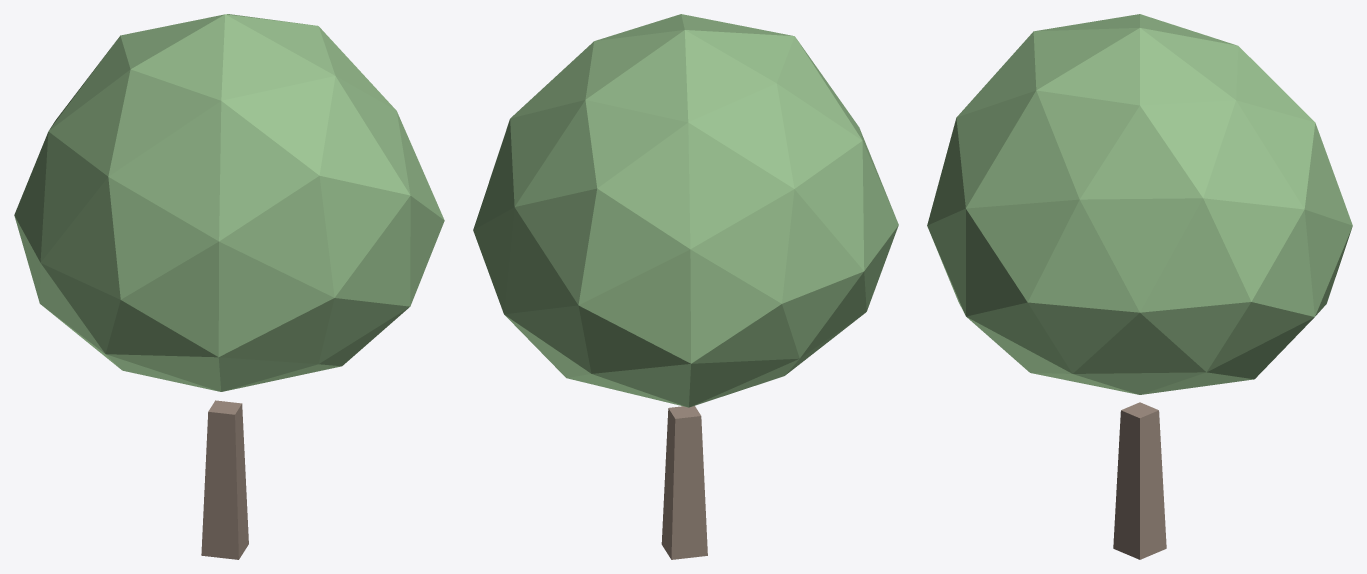
File: tree-broadleaf-b-far.glb
3 views of the same model, side by side, from view 1: azimuth 30°, elevation 25°; view 2: azimuth 150°, elevation 25°; view 3: azimuth 270°, elevation 25° (orthographic). The views are drawn at different scales.
Parts seen in each view (by area): view 1: tree-broadleaf-b-far; view 2: tree-broadleaf-b-far; view 3: tree-broadleaf-b-far.
Part boxes in pixels (box(x1,y1,x2,y2)): tree-broadleaf-b-far: box(14, 14, 444, 559); tree-broadleaf-b-far: box(473, 14, 898, 559); tree-broadleaf-b-far: box(927, 14, 1352, 559).
Size of the model in its own units: 0.7175 by 0.998 by 0.7394.
